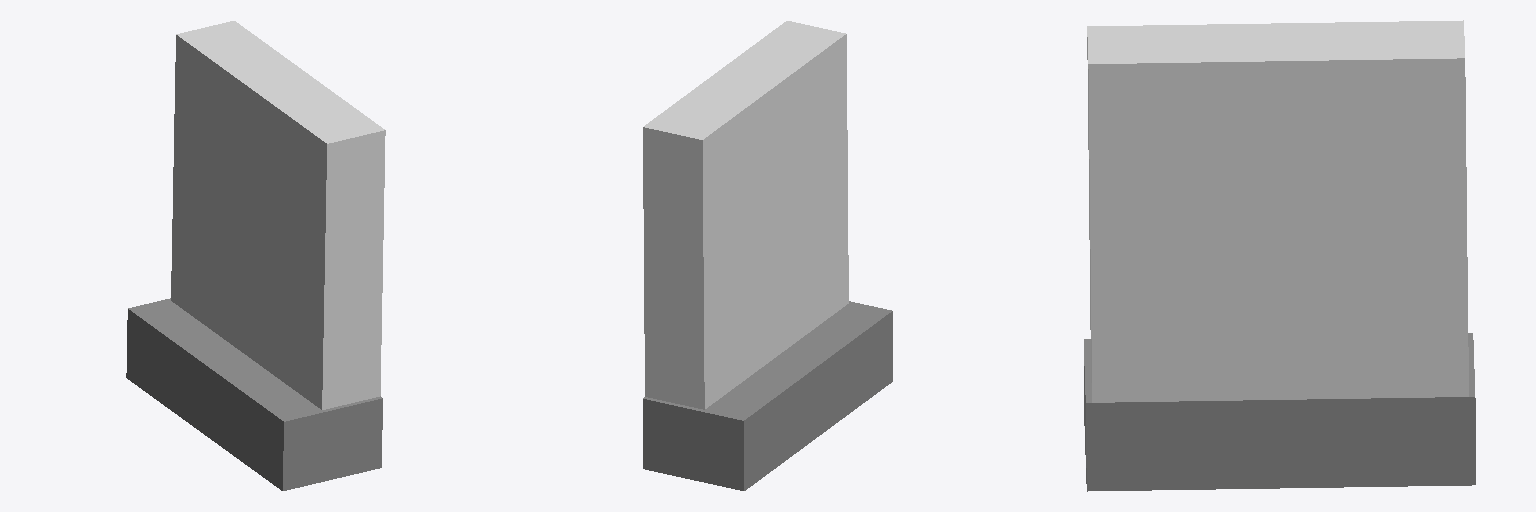
URDF robot description (panda_kinect):
<robot name="panda_kinect">
  
  <link name="panda_link0">
    <visual>
      <geometry>
        <mesh filename="package://franka_description/meshes/visual/link0.dae" />
      </geometry>
    </visual>
    <collision>
      <geometry>
        <mesh filename="package://franka_description/meshes/collision/link0.stl" />
      </geometry>
    </collision>
  <collision><origin rpy="-3.0243261608261824 -1.3294583226531413 2.9920703040892493" xyz="-0.034957983344364243 -0.004314478789411631 0.051323772343531485" /><geometry><capsule length="0.031369039955400684" radius="0.11487758117010671" /></geometry></collision></link>
  <link name="panda_link1">
    <visual>
      <geometry>
        <mesh filename="package://franka_description/meshes/visual/link1.dae" />
      </geometry>
    </visual>
    <collision>
      <geometry>
        <mesh filename="package://franka_description/meshes/collision/link1.stl" />
      </geometry>
    </collision>
  <collision><origin rpy="0.11762594515144344 -0.013115203519896923 -0.0007722457191651574" xyz="-0.0013398862142661194 -0.027772800607184626 -0.07684929619012724" /><geometry><capsule length="0.12697444612870706" radius="0.0886728055144937" /></geometry></collision></link>
  <joint name="panda_joint1" type="revolute">
    <safety_controller k_position="100.0" k_velocity="40.0" soft_lower_limit="-2.8973" soft_upper_limit="2.8973" />
    <origin rpy="0 0 0" xyz="0 0 0.333" />
    <parent link="panda_link0" />
    <child link="panda_link1" />
    <axis xyz="0 0 1" />
    <limit effort="87" lower="-2.8973" upper="2.8973" velocity="2.1750" />
  </joint>
  <link name="panda_link2">
    <visual>
      <geometry>
        <mesh filename="package://franka_description/meshes/visual/link2.dae" />
      </geometry>
    </visual>
    <collision>
      <geometry>
        <mesh filename="package://franka_description/meshes/collision/link2.stl" />
      </geometry>
    </collision>
  <collision><origin rpy="1.77374411375772 0.02313614681883891 0.02838126205639317" xyz="0.0020962069030267573 -0.06802894190146427 0.02794369698632948" /><geometry><capsule length="0.12587495578266192" radius="0.0916206936192269" /></geometry></collision></link>
  <joint name="panda_joint2" type="revolute">
    <safety_controller k_position="100.0" k_velocity="40.0" soft_lower_limit="-1.7628" soft_upper_limit="1.7628" />
    <origin rpy="-1.57079632679 0 0" xyz="0 0 0" />
    <parent link="panda_link1" />
    <child link="panda_link2" />
    <axis xyz="0 0 1" />
    <limit effort="87" lower="-1.7628" upper="1.7628" velocity="2.1750" />
  </joint>
  <link name="panda_link3">
    <visual>
      <geometry>
        <mesh filename="package://franka_description/meshes/visual/link3.dae" />
      </geometry>
    </visual>
    <collision>
      <geometry>
        <mesh filename="package://franka_description/meshes/collision/link3.stl" />
      </geometry>
    </collision>
  <collision><origin rpy="1.7468460688643277 -1.0293964081443896 -1.1875366637283264" xyz="0.03693817326423657 0.024456446970398275 -0.03835574262762048" /><geometry><capsule length="0.10066544170357693" radius="0.08241541999477786" /></geometry></collision></link>
  <joint name="panda_joint3" type="revolute">
    <safety_controller k_position="100.0" k_velocity="40.0" soft_lower_limit="-2.8973" soft_upper_limit="2.8973" />
    <origin rpy="1.57079632679 0 0" xyz="0 -0.316 0" />
    <parent link="panda_link2" />
    <child link="panda_link3" />
    <axis xyz="0 0 1" />
    <limit effort="87" lower="-1.3973" upper="1.3973" velocity="2.1750" />
  </joint>
  <link name="panda_link4">
    <visual>
      <geometry>
        <mesh filename="package://franka_description/meshes/visual/link4.dae" />
      </geometry>
    </visual>
    <collision>
      <geometry>
        <mesh filename="package://franka_description/meshes/collision/link4.stl" />
      </geometry>
    </collision>
  <collision><origin rpy="-1.919842973660036 -0.7683834551971195 1.0472148276909252" xyz="-0.04021845162350863 0.044025268386932395 0.025289239145322693" /><geometry><capsule length="0.09955040145932144" radius="0.08422000523626626" /></geometry></collision></link>
  <joint name="panda_joint4" type="revolute">
    <safety_controller k_position="100.0" k_velocity="40.0" soft_lower_limit="-3.0718" soft_upper_limit="-0.0698" />
    <origin rpy="1.57079632679 0 0" xyz="0.0825 0 0" />
    <parent link="panda_link3" />
    <child link="panda_link4" />
    <axis xyz="0 0 1" />
    <limit effort="87" lower="-3.0718" upper="0.3" velocity="2.1750" />
  </joint>
  <link name="panda_link5">
    <visual>
      <geometry>
        <mesh filename="package://franka_description/meshes/visual/link5.dae" />
      </geometry>
    </visual>
    <collision>
      <geometry>
        <mesh filename="package://franka_description/meshes/collision/link5.stl" />
      </geometry>
    </collision>
  <collision><origin rpy="-0.08294261554458876 0.004724186315245182 -0.00019603094382691442" xyz="0.0007051844844154947 0.04108682835947113 -0.10689194546686717" /><geometry><capsule length="0.20917855621769932" radius="0.08348852106339627" /></geometry></collision></link>
  <joint name="panda_joint5" type="revolute">
    <safety_controller k_position="100.0" k_velocity="40.0" soft_lower_limit="-2.8973" soft_upper_limit="2.8973" />
    <origin rpy="-1.57079632679 0 0" xyz="-0.0825 0.384 0" />
    <parent link="panda_link4" />
    <child link="panda_link5" />
    <axis xyz="0 0 1" />
    <limit effort="12" lower="-1.2973" upper="1.2973" velocity="2.6100" />
  </joint>
  <link name="panda_link6">
    <visual>
      <geometry>
        <mesh filename="package://franka_description/meshes/visual/link6.dae" />
      </geometry>
    </visual>
    <collision>
      <geometry>
        <mesh filename="package://franka_description/meshes/collision/link6.stl" />
      </geometry>
    </collision>
  <collision><origin rpy="-2.6038401107190485 1.3907030467890107 -2.5036530775378814" xyz="0.049420610712120464 0.00690613252134797 0.0033035536558219873" /><geometry><capsule length="0.04953818383093049" radius="0.08416467995173034" /></geometry></collision></link>
  <joint name="panda_joint6" type="revolute">
    <safety_controller k_position="100.0" k_velocity="40.0" soft_lower_limit="-0.0175" soft_upper_limit="3.7525" />
    <origin rpy="1.57079632679 0 0" xyz="0 0 0" />
    <parent link="panda_link5" />
    <child link="panda_link6" />
    <axis xyz="0 0 1" />
    <limit effort="12" lower="-0.0175" upper="3.7525" velocity="2.6100" />
  </joint>
  <link name="panda_link7">
    <visual>
      <geometry>
        <mesh filename="package://franka_description/meshes/visual/link7.dae" />
      </geometry>
    </visual>
    <collision>
      <geometry>
        <mesh filename="package://franka_description/meshes/collision/link7.stl" />
      </geometry>
    </collision>
  <collision><origin rpy="1.6518840701090443 -0.8145020730799131 -0.875187572021594" xyz="0.014849396546476845 0.012284439469113772 0.07917794650922352" /><geometry><capsule length="0.03071803221664795" radius="0.060455341971430224" /></geometry></collision></link>
  <joint name="panda_joint7" type="revolute">
    <safety_controller k_position="100.0" k_velocity="40.0" soft_lower_limit="-2.8973" soft_upper_limit="2.8973" />
    <origin rpy="1.57079632679 0 0" xyz="0.088 0 0" />
    <parent link="panda_link6" />
    <child link="panda_link7" />
    <axis xyz="0 0 1" />
    <limit effort="12" lower="-2.8973" upper="2.8973" velocity="2.6100" />
  </joint>
  
  <link name="ft_sensor_link">
  </link>
  <joint name="ft_sensor_joint" type="fixed">
    <origin rpy="0 0 0" xyz="0 0 0.062" />
    <parent link="panda_link7" />
    <child link="ft_sensor_link" />
    <axis xyz="0 0 0" />
  </joint>
  
  <link name="panda_link8" />
  <joint name="panda_joint8" type="fixed">
    
    <origin rpy="0 0 0" xyz="0 0 0" />
    
    <parent link="ft_sensor_link" />
    <child link="panda_link8" />
    <axis xyz="0 0 0" />
  </joint>
  <joint name="panda_hand_joint" type="fixed">
    <parent link="panda_link8" />
    <child link="panda_hand" />
    <origin rpy="0 0 -0.785398163397" xyz="0 0 0.05" />
  </joint>
  <link name="panda_hand">
    <visual>
      <geometry>
        <mesh filename="package://franka_description/meshes/visual/hand.dae" />
      </geometry>
    </visual>
    <collision>
      <geometry>
        <mesh filename="package://franka_description/meshes/collision/hand.stl" />
      </geometry>
    </collision>
  <collision><origin rpy="-1.5721398271788396 -0.0011814717893947613 0.0011830601640573867" xyz="5.460269270634878e-05 -0.0007301929545026533 0.02479929794153105" /><geometry><capsule length="0.11743784294175921" radius="0.05832700745473816" /></geometry></collision></link>
  <link name="panda_leftfinger">
    <visual>
      <geometry>
        <mesh filename="package://franka_description/meshes/visual/finger.dae" />
      </geometry>
    </visual>
    <collision>
      <geometry>
        <mesh filename="package://franka_description/meshes/collision/finger.stl" />
      </geometry>
    </collision>
  <collision><origin rpy="0.03896797105577359 0.004846161533912818 9.443467616335837e-05" xyz="-0.00033129494377117817 0.012683938945149197 0.025713631311151446" /><geometry><capsule length="0.013955953110170281" radius="0.027723100877711446" /></geometry></collision></link>
  <link name="panda_rightfinger">
    <visual>
      <origin rpy="0 0 3.14159265359" xyz="0 0 0" />
      <geometry>
        <mesh filename="package://franka_description/meshes/visual/finger.dae" />
      </geometry>
    </visual>
    <collision>
      <origin rpy="0 0 3.14159265359" xyz="0 0 0" />
      <geometry>
        <mesh filename="package://franka_description/meshes/collision/finger.stl" />
      </geometry>
    </collision>
  <collision><origin rpy="0.05257484887789274 -0.0030279710940335214 3.1415130376280715" xyz="-5.3639786543995014e-05 -0.013938364671176304 0.024240505507251552" /><geometry><capsule length="0.013960435111059202" radius="0.02911072454044726" /></geometry></collision></link>
  <joint name="panda_finger_joint1" type="prismatic">
    <parent link="panda_hand" />
    <child link="panda_leftfinger" />
    <origin rpy="0 0 0" xyz="0 0 0.0584" />
    <axis xyz="0 1 0" />
    <limit effort="20" lower="0.0" upper="0.04" velocity="0.2" />
  </joint>
  <joint name="panda_finger_joint2" type="prismatic">
    <parent link="panda_hand" />
    <child link="panda_rightfinger" />
    <origin rpy="0 0 0" xyz="0 0 0.0584" />
    <axis xyz="0 -1 0" />
    <limit effort="20" lower="0.0" upper="0.04" velocity="0.2" />
    <mimic joint="panda_finger_joint1" />
  </joint>
  <material name="black">
    <color rgba="0. 0. 0. 1" />
  </material>
  <material name="dark_grey">
    <color rgba="0.1 0.1 0.1 1" />
  </material>
  <material name="grey">
    <color rgba="0.6 0.6 0.6 1" />
  </material>
  <material name="white">
    <color rgba="0.9 0.9 0.9 1" />
  </material>
  <link name="camera_body">
    <visual>
      <origin xyz="0. 0. 0." />
      <geometry>
        <box size="0.0994 0.0996 0.023" />
      </geometry>
      <material name="white" />
    </visual>
  </link>
  <link name="camera_base">
    <visual>
      <origin xyz="-0.013 0. 0." />
      <geometry>
        <box size="0.026 0.103 0.039" />
      </geometry>
      <material name="grey" />
    </visual>
  </link>
  <link name="camera_visor">
    <visual>
      <origin xyz="-0.0128 0. 0." />
      <geometry>
        <box size="0.026 0.101 0.037" />
      </geometry>
      <material name="black" />
    </visual>
  </link>
  <joint name="fake_base" type="fixed">
    <parent link="panda_link6" />
    <child link="camera_base" />
    
    
    
    <origin rpy="-1.586 0.010 -1.585" xyz="0.156 -0.041 0.00" />
  </joint>
  <joint name="camera_base_to_body" type="fixed">
    <parent link="camera_base" />
    <child link="camera_body" />
    <origin rpy="0. 0. 0." xyz="-0.0757 0. 0.008" />
  </joint>
  <joint name="camera_base_to_visor" type="fixed">
    <parent link="camera_base" />
    <child link="camera_visor" />
    <origin rpy="0. 0. 0." xyz="0. 0. 0." />
  </joint>
  
</robot>

--- Facts derived from the render (not from the file) ---
The picture shows the robot from 3 angles, left to right: view 1: azimuth 30°, elevation 25°; view 2: azimuth 150°, elevation 25°; view 3: azimuth 270°, elevation 25°; orthographic projection.
Robot: panda_kinect — 16 links, 15 joints (7 revolute, 2 prismatic, 6 fixed); root link panda_link0; default pose: every joint at zero.
Visible links, largest first — view 1: camera_body, camera_base; view 2: camera_body, camera_base; view 3: camera_body, camera_base.
Link boxes in pixels (left/top/right/bottom): camera_body: left=171, top=21, right=385, bottom=409; camera_base: left=126, top=298, right=382, bottom=490; camera_body: left=643, top=21, right=848, bottom=409; camera_base: left=643, top=301, right=892, bottom=490; camera_body: left=1087, top=20, right=1468, bottom=402; camera_base: left=1084, top=333, right=1475, bottom=491.
Bounding box of the posed robot: 0.0423 × 0.1038 × 0.1269 m (x, y, z).
Meshes: 10 distinct files referenced, 0 mesh visuals loaded (none loaded); not drawn: 11 (file found but could not be loaded).